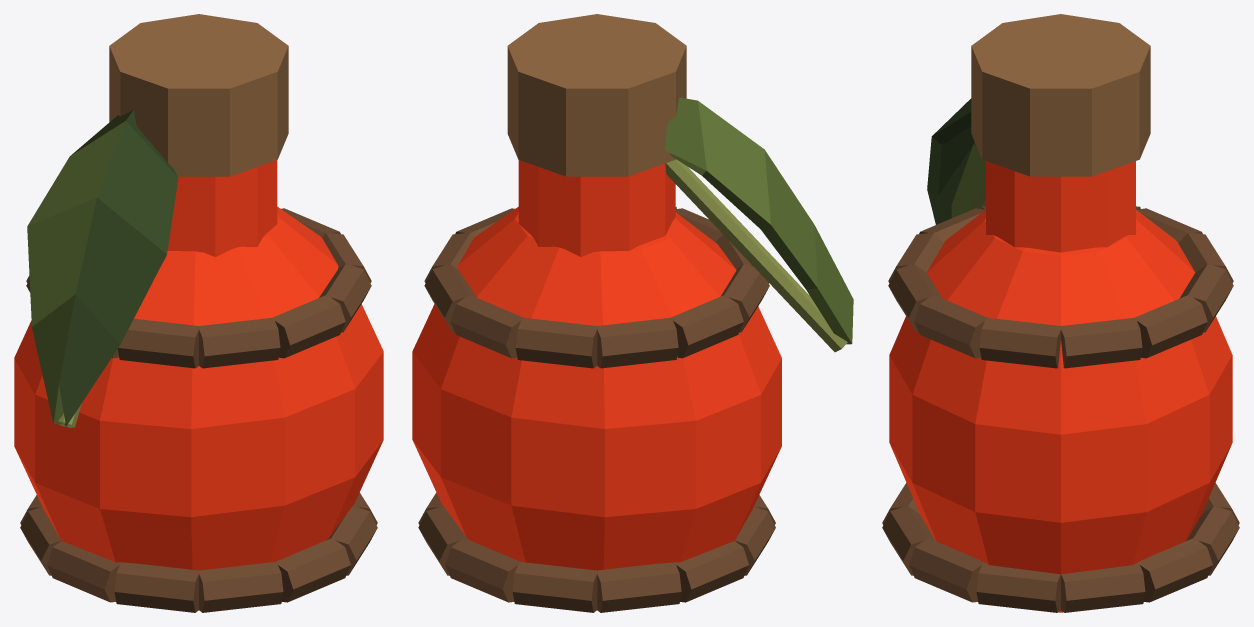
The picture shows the model from 3 angles, left to right: view 1: azimuth 30°, elevation 25°; view 2: azimuth 150°, elevation 25°; view 3: azimuth 270°, elevation 25°; orthographic projection.
Parts seen in each view (by area): view 1: healing-draught; view 2: healing-draught; view 3: healing-draught.
Part boxes in pixels (<box>): healing-draught: <box>14,14,383,612</box>; healing-draught: <box>412,14,853,612</box>; healing-draught: <box>882,14,1239,612</box>.
Size of the model in its own units: 0.6933 by 0.99 by 0.5895.
